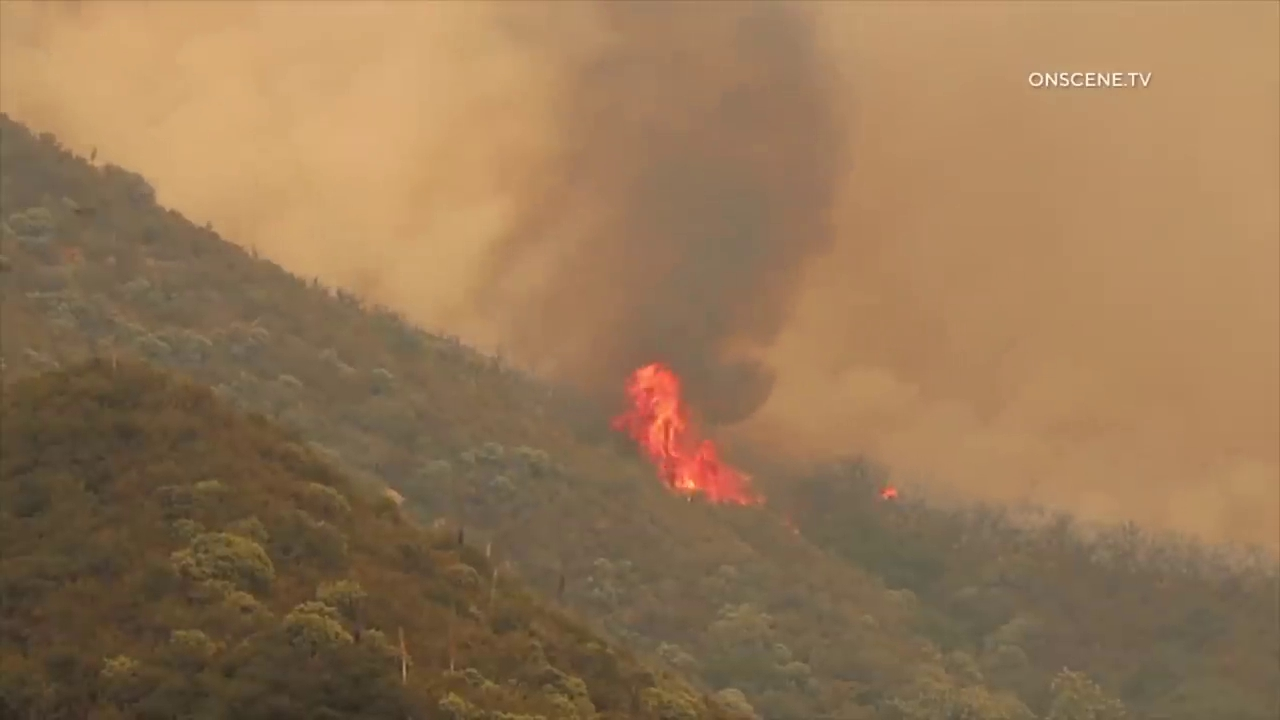forest_fire: (612, 362, 763, 503), (880, 485, 897, 499)
